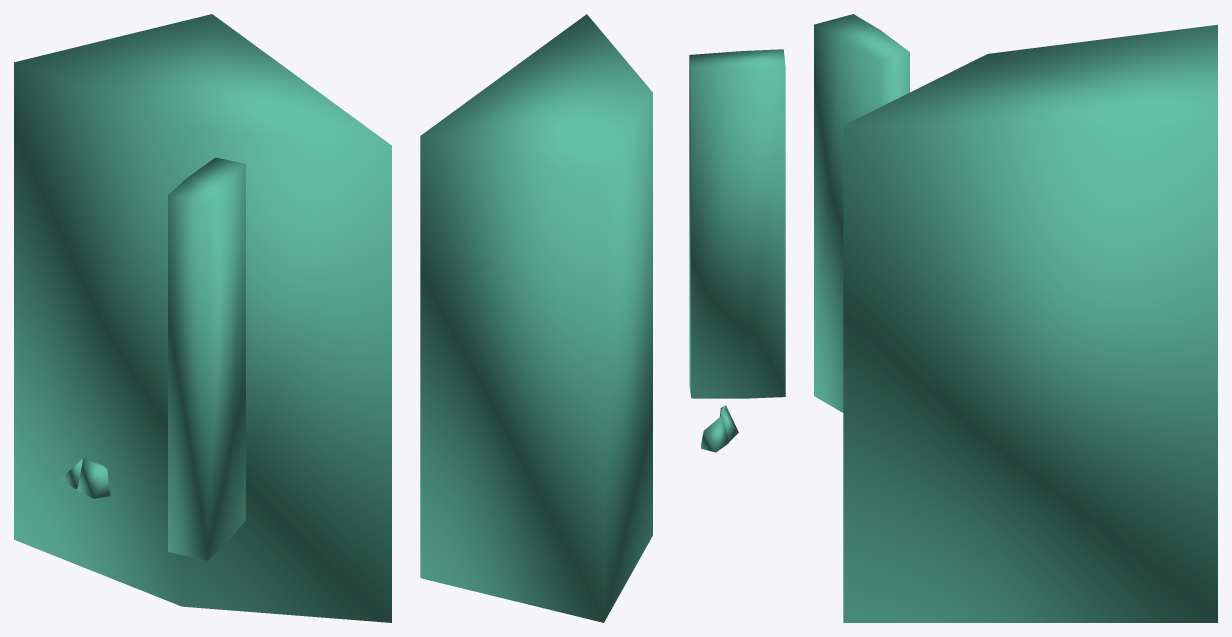
Rendered from m1_assault_0_design.fbx.
3 views of the same model, side by side, from view 1: azimuth 30°, elevation 25°; view 2: azimuth 150°, elevation 25°; view 3: azimuth 270°, elevation 25° (orthographic). The views are drawn at different scales.
Visible parts, largest first — view 1: rain_blocker:bsp_a_weatherpoly; view 2: rain_blocker:bsp_a_weatherpoly; view 3: rain_blocker:bsp_a_weatherpoly.
Part boxes in pixels (x1,y1,x2,y2): rain_blocker:bsp_a_weatherpoly: (14, 14, 391, 622); rain_blocker:bsp_a_weatherpoly: (420, 14, 785, 622); rain_blocker:bsp_a_weatherpoly: (814, 14, 1217, 622).
Size of the model in its own units: 44258 by 31006 by 60149.
